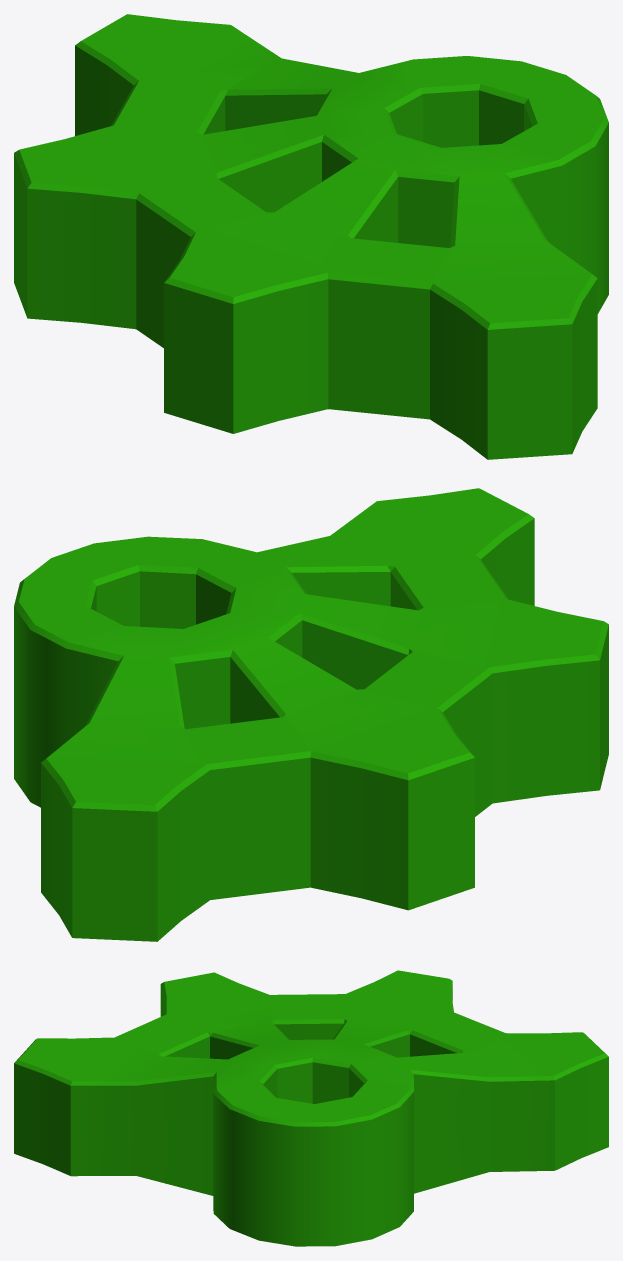
Rendered from geo_gear_moitie.fbx.
3 renders of one model, top to bottom at view 1: azimuth 30°, elevation 25°; view 2: azimuth 150°, elevation 25°; view 3: azimuth 270°, elevation 25°, orthographic. The views are drawn at different scales.
Parts seen in each view (by area): view 1: geo_gear_moitie; view 2: geo_gear_moitie; view 3: geo_gear_moitie.
Boxes of the visible parts, bbox=[...] form: geo_gear_moitie: bbox=[14, 14, 608, 459]; geo_gear_moitie: bbox=[14, 488, 608, 941]; geo_gear_moitie: bbox=[14, 970, 608, 1246].
Size of the model in its own units: 1.78 by 0.5989 by 2.63.
